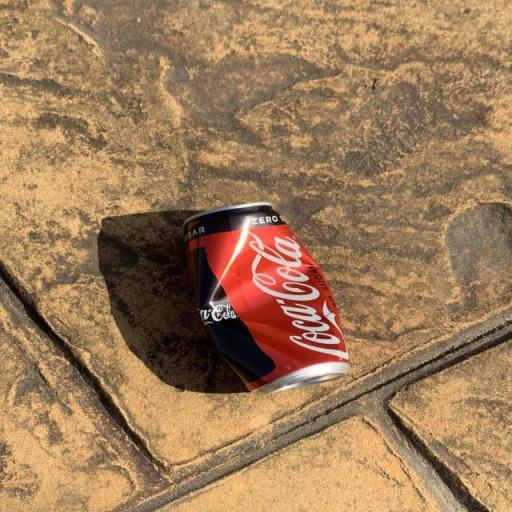metal: (144, 197, 453, 403)
